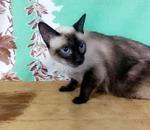siamese: (36, 10, 95, 72)
